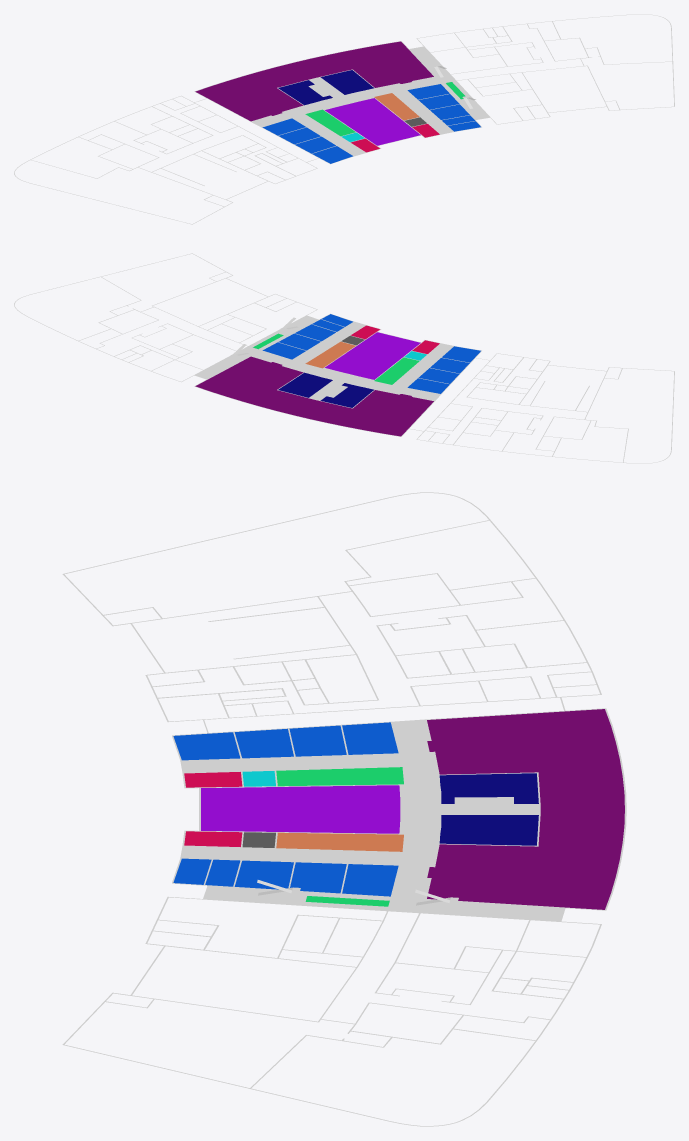
Rendered from aituMap.glb.
3 renders of one model, top to bottom at view 1: azimuth 30°, elevation 25°; view 2: azimuth 150°, elevation 25°; view 3: azimuth 270°, elevation 25°, orthographic. The views are drawn at different scales.
Parts seen in each view (by area): view 1: coworking, walls, floor, walls.001, wc, floor.inter, coffee, cloakroom, exitStair, 121K, 124K, 139 (+4 smaller); view 2: coworking, walls, floor, walls.001, wc, floor.inter, cloakroom, coffee, exitStair, 124K, 121K, 139 (+4 smaller); view 3: coworking, walls, floor, walls.001, wc, floor.inter, coffee, cloakroom, exitStair, 121K, 124K, 139 (+4 smaller).
Boxes of the visible parts, x1=… form: coworking: x1=195, y1=41, x2=433, y2=121; walls: x1=14, y1=14, x2=674, y2=224; floor: x1=252, y1=77, x2=452, y2=155; walls.001: x1=325, y1=98, x2=420, y2=145; wc: x1=278, y1=70, x2=373, y2=105; floor.inter: x1=410, y1=47, x2=489, y2=119; coffee: x1=305, y1=109, x2=355, y2=136; cloakroom: x1=374, y1=93, x2=419, y2=120; exitStair: x1=351, y1=124, x2=439, y2=152; 121K: x1=312, y1=146, x2=352, y2=163; 124K: x1=262, y1=118, x2=305, y2=135; 139: x1=407, y1=84, x2=449, y2=99; coworking: x1=195, y1=356, x2=433, y2=436; walls: x1=14, y1=253, x2=674, y2=463; floor: x1=252, y1=322, x2=452, y2=400; walls.001: x1=325, y1=332, x2=420, y2=379; wc: x1=278, y1=372, x2=373, y2=407; floor.inter: x1=195, y1=316, x2=318, y2=379; cloakroom: x1=305, y1=341, x2=355, y2=368; coffee: x1=374, y1=357, x2=419, y2=384; exitStair: x1=351, y1=325, x2=439, y2=353; 124K: x1=407, y1=378, x2=449, y2=393; 121K: x1=442, y1=346, x2=480, y2=362; 139: x1=262, y1=342, x2=305, y2=359; coworking: x1=427, y1=709, x2=624, y2=909; walls: x1=62, y1=492, x2=626, y2=1126; floor: x1=182, y1=720, x2=538, y2=898; walls.001: x1=201, y1=785, x2=400, y2=833; wc: x1=439, y1=773, x2=538, y2=845; floor.inter: x1=204, y1=886, x2=563, y2=921; coffee: x1=276, y1=767, x2=403, y2=786; cloakroom: x1=276, y1=832, x2=403, y2=851; exitStair: x1=184, y1=772, x2=242, y2=846; 121K: x1=173, y1=732, x2=240, y2=760; 124K: x1=342, y1=722, x2=398, y2=754; 139: x1=342, y1=864, x2=398, y2=896.
Bounding box in the file's own units: 1771 × 20.98 × 666.
